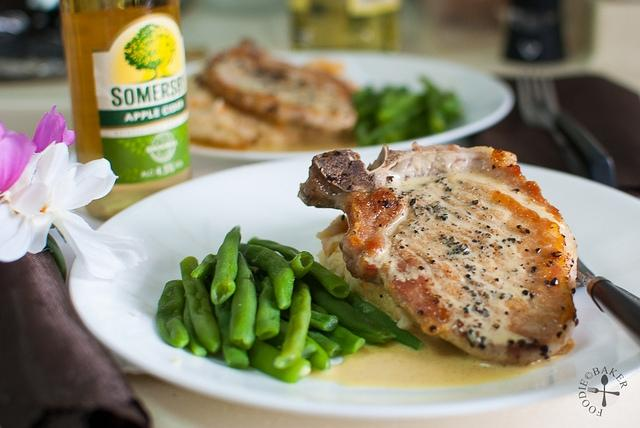green bean: (247, 236, 351, 299), (310, 284, 396, 344), (344, 292, 423, 350), (180, 256, 222, 354), (238, 244, 294, 310), (273, 279, 312, 371), (246, 336, 312, 383), (229, 251, 258, 351), (214, 294, 250, 371), (211, 225, 242, 305), (156, 280, 190, 348), (356, 110, 410, 146), (310, 324, 364, 354), (182, 297, 208, 357), (256, 280, 280, 341), (280, 307, 338, 331), (378, 95, 418, 122), (306, 334, 330, 372), (308, 332, 342, 358), (286, 251, 314, 280), (252, 272, 262, 292)
